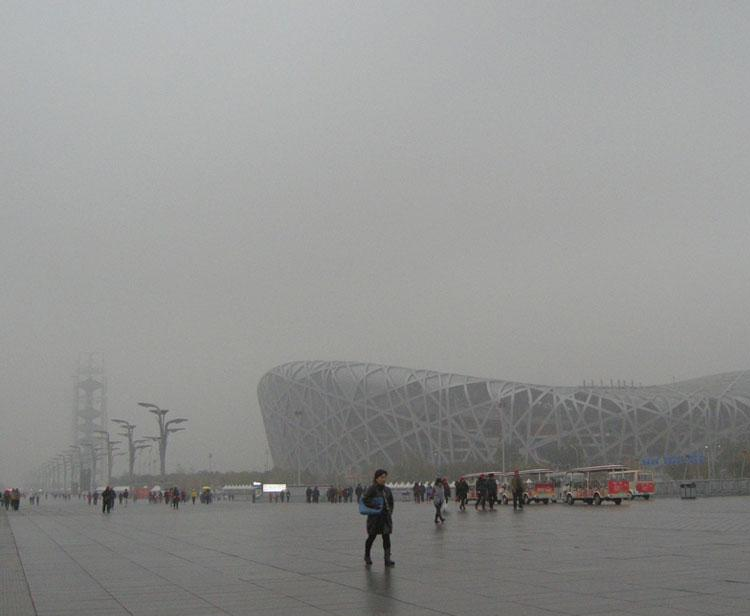bus: (606, 469, 657, 501)
car: (561, 464, 630, 505), (499, 468, 557, 506)
person: (358, 468, 394, 567), (431, 477, 445, 524), (510, 469, 524, 511), (474, 473, 488, 512), (456, 477, 470, 512), (484, 472, 496, 512)
